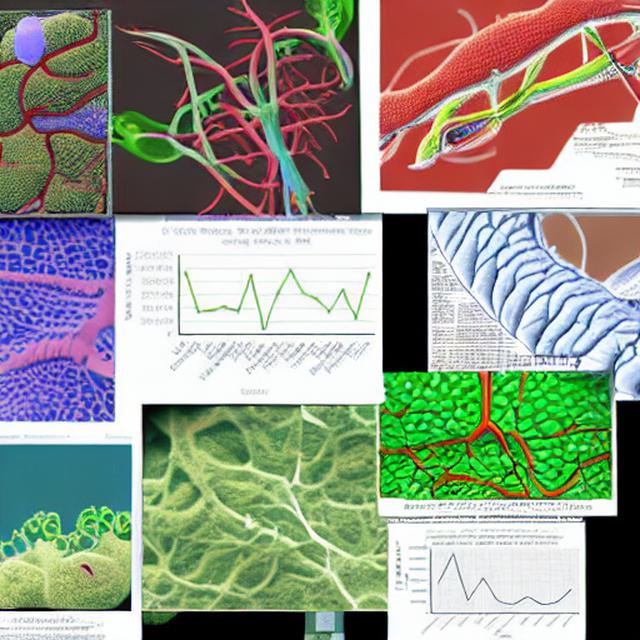Graph: (117, 222, 381, 401), (403, 533, 583, 639)
